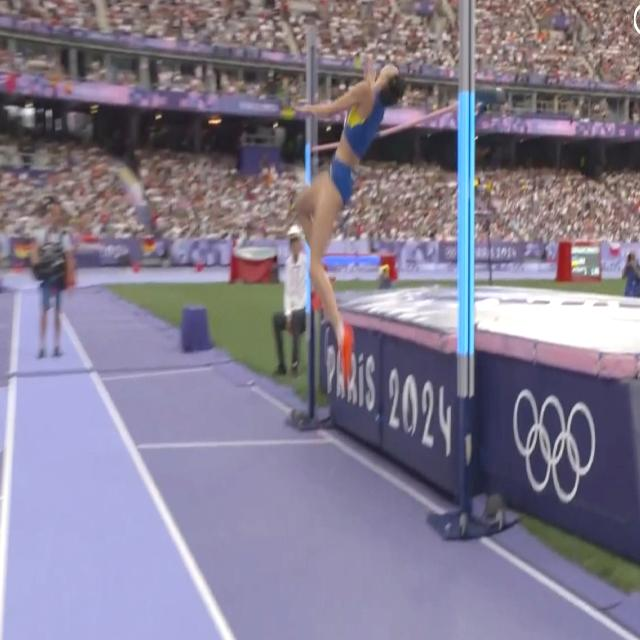jump: (292, 62, 404, 378)
